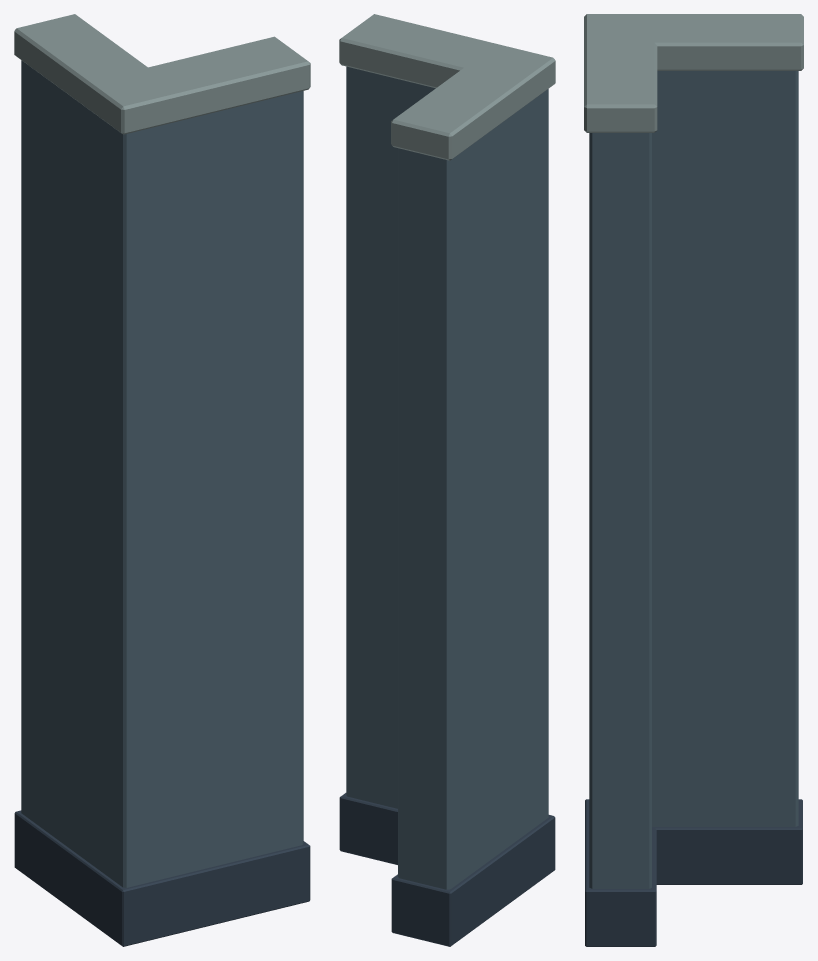
Rendered from wall_corner.glb.
3 renders of one model, left to right at view 1: azimuth 30°, elevation 25°; view 2: azimuth 150°, elevation 25°; view 3: azimuth 270°, elevation 25°, orthographic. The views are drawn at different scales.
Parts seen in each view (by area): view 1: wall_corner__wall, wall_corner__metal_light, wall_corner__metal; view 2: wall_corner__wall, wall_corner__metal_light, wall_corner__metal; view 3: wall_corner__wall, wall_corner__metal_light, wall_corner__metal.
Part boxes in pixels (box(x1,y1,x2,y2)): wall_corner__wall: box(21, 60, 303, 887); wall_corner__metal_light: box(14, 14, 310, 134); wall_corner__metal: box(14, 810, 310, 946); wall_corner__wall: box(346, 66, 548, 889); wall_corner__metal_light: box(339, 14, 555, 160); wall_corner__metal: box(339, 793, 555, 946); wall_corner__wall: box(589, 71, 798, 888); wall_corner__metal_light: box(584, 14, 803, 132); wall_corner__metal: box(585, 799, 802, 946).
Bounding box in the file's own units: 0.63 × 2.66 × 0.63.
